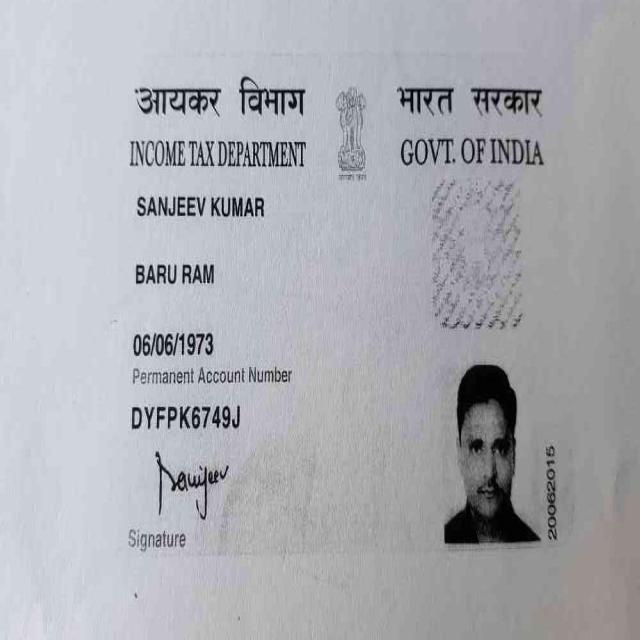pan_card: (119, 60, 573, 564)
